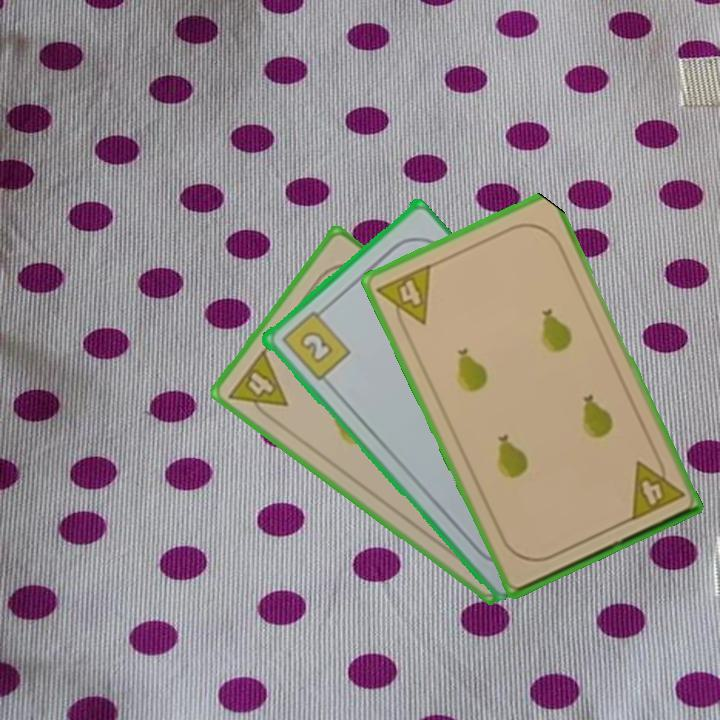2b: (277, 303, 353, 384)
4p: (225, 345, 291, 426), (373, 260, 434, 336), (626, 450, 687, 524)
